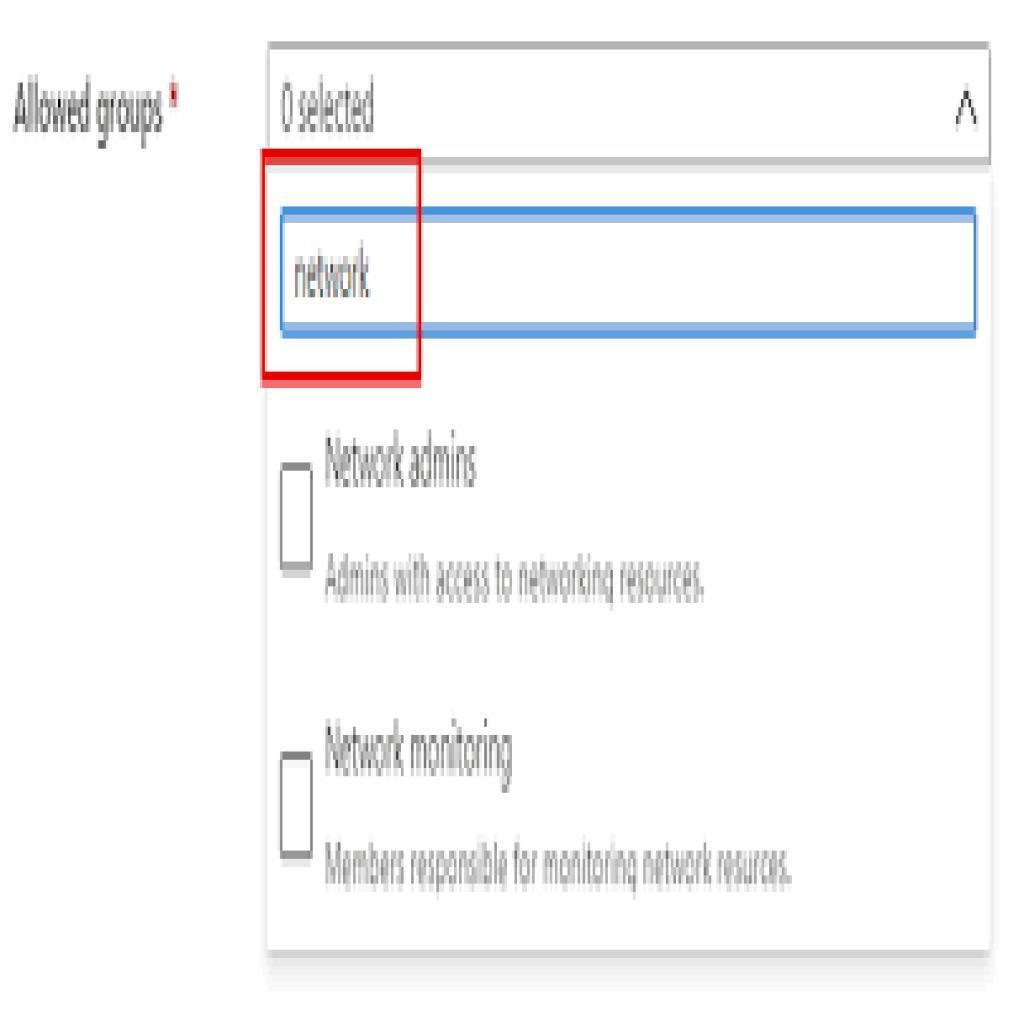checkbox: (281, 469, 313, 567), (281, 755, 312, 855)
dropdown: (260, 35, 992, 178)
